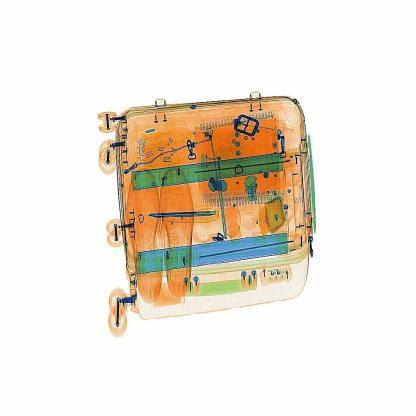pliers: (142, 206, 225, 224)
